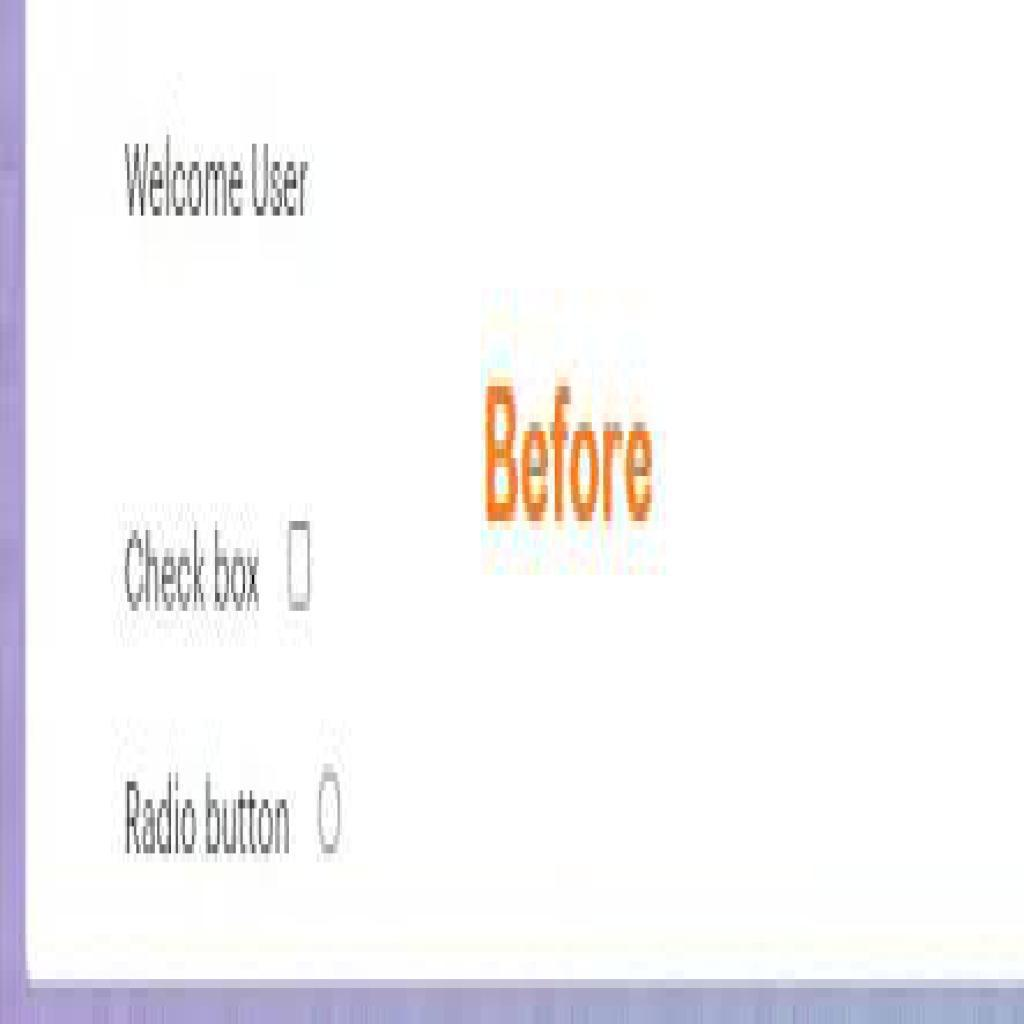checkbox: (285, 524, 315, 614)
radio: (315, 757, 344, 860)
